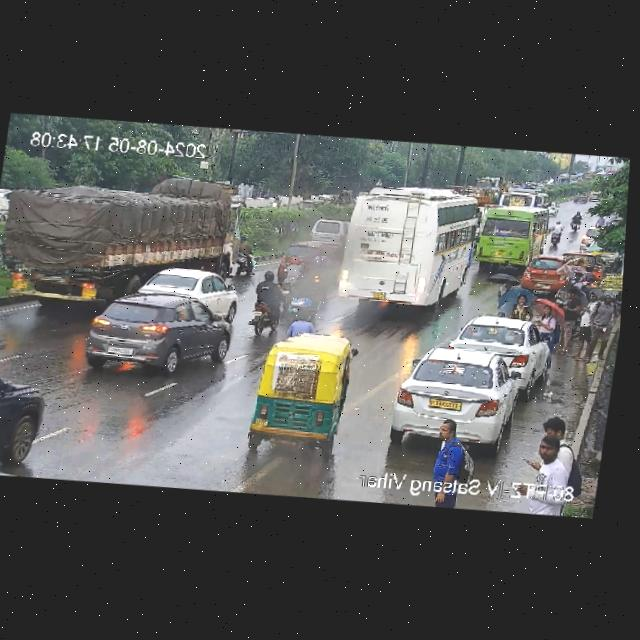bus: (328, 176, 484, 321), (466, 199, 552, 271), (496, 187, 556, 212), (472, 176, 501, 193), (554, 172, 571, 186)
car: (77, 288, 249, 385), (391, 344, 531, 451), (247, 330, 356, 456), (448, 312, 553, 378), (0, 358, 57, 477), (133, 264, 245, 310), (518, 255, 571, 293), (309, 216, 350, 247), (579, 224, 607, 252), (295, 197, 324, 214), (570, 191, 589, 202), (523, 179, 540, 191)
motorcycle: (245, 271, 285, 336), (287, 268, 326, 321), (233, 233, 260, 272), (548, 218, 565, 246), (569, 210, 584, 233), (265, 194, 281, 212)
person: (523, 416, 588, 502), (425, 415, 480, 500), (583, 289, 622, 359), (555, 288, 581, 345), (535, 302, 560, 342), (507, 293, 535, 321)
truck: (0, 176, 248, 316)
